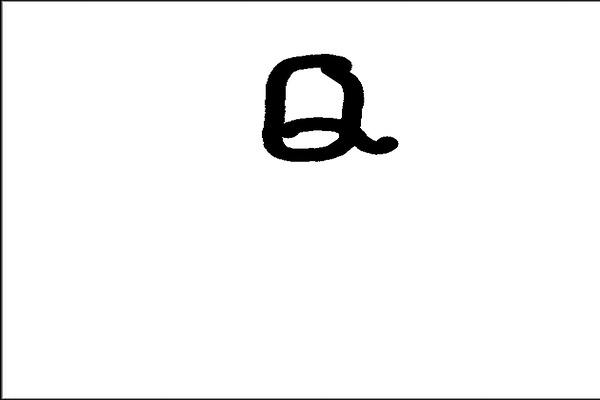Q: (246, 37, 402, 174)
